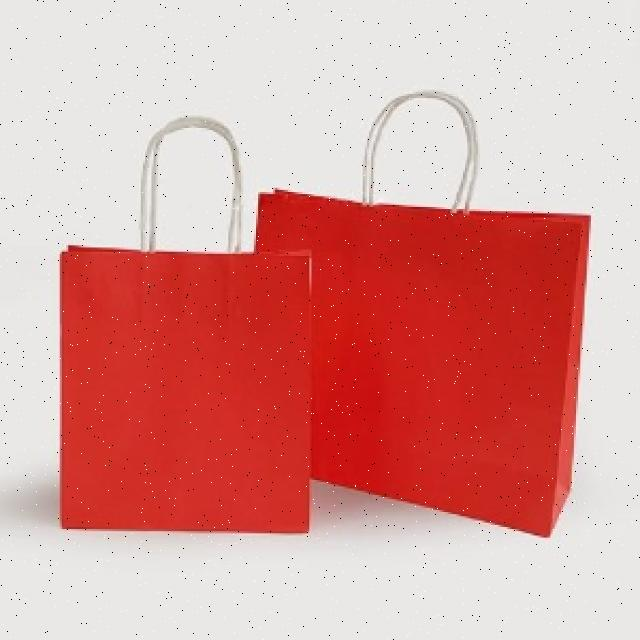paper bag: (242, 180, 598, 544), (48, 233, 326, 539)
